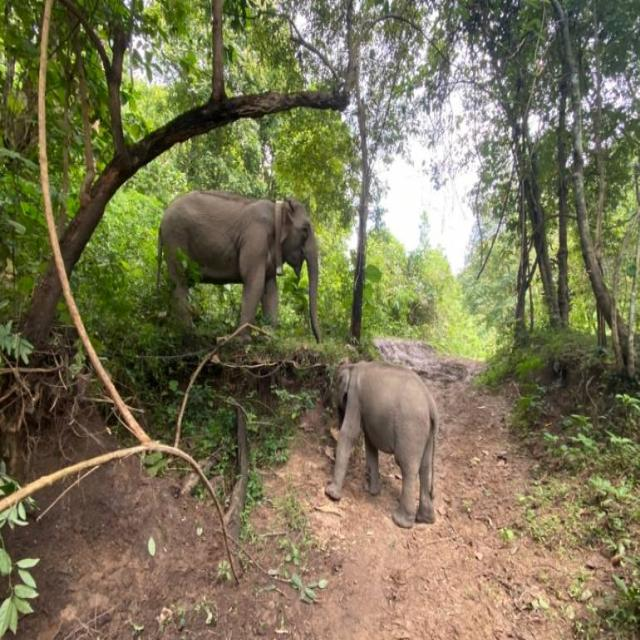Elephant: (146, 172, 342, 348), (318, 361, 448, 531)
